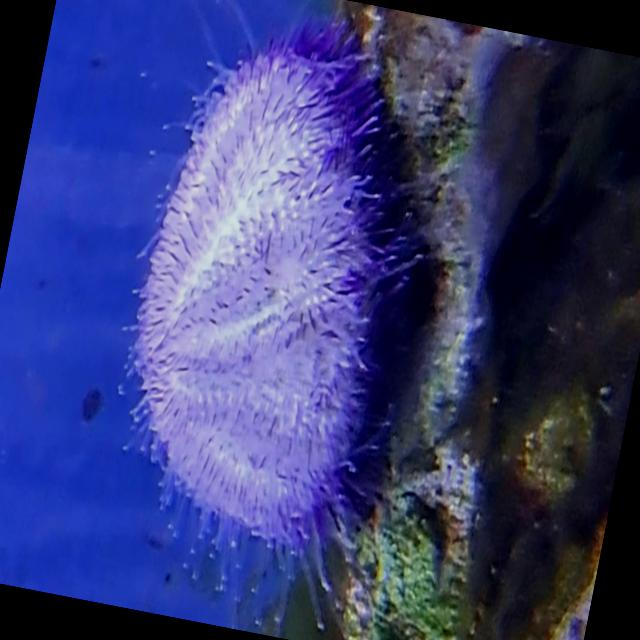Deniz Kestanesi: (70, 0, 466, 607)
